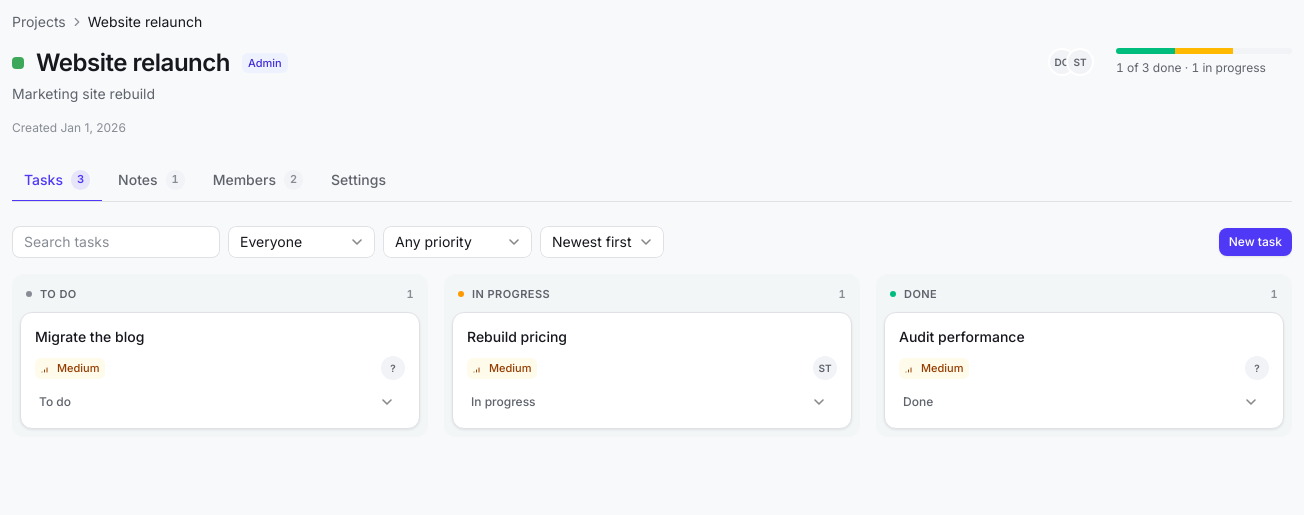
Test case: ProjectDetail › narrows the board to the signed-in user's own tasks
Expected: the button "Migrate the blog" is shown, [35,327,405,346]
Select "Assigned to me" in the dropdown named "Filter by assignee" at (302, 242), box [228,226,375,258]
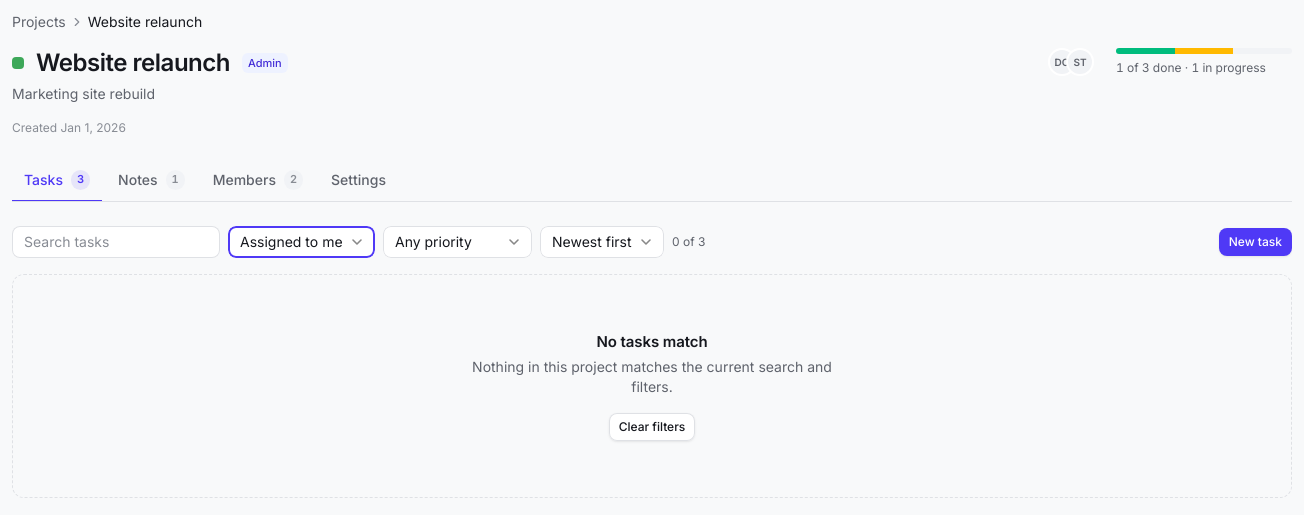
Result: the text "No tasks match" is shown at [596,332,708,351]
Select "Sam Teammate" in the dropdown named "Filter by assignee" at (302, 242), box [228,226,375,258]
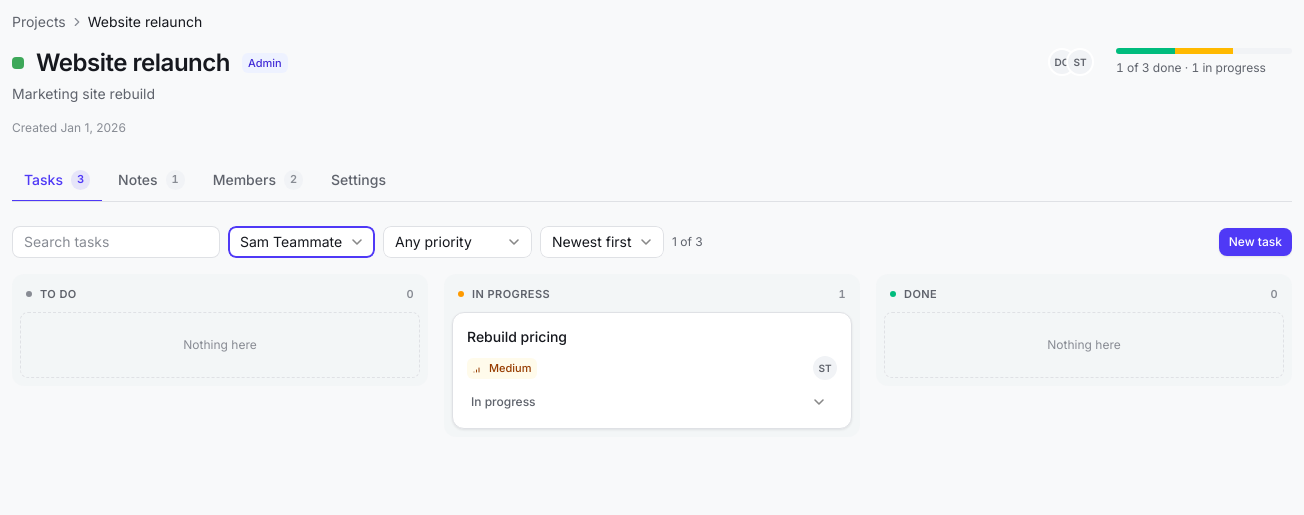
Expected: the button "Migrate the blog" is not shown
Result: the button "Rebuild pricing" is shown at [467,327,837,346]
